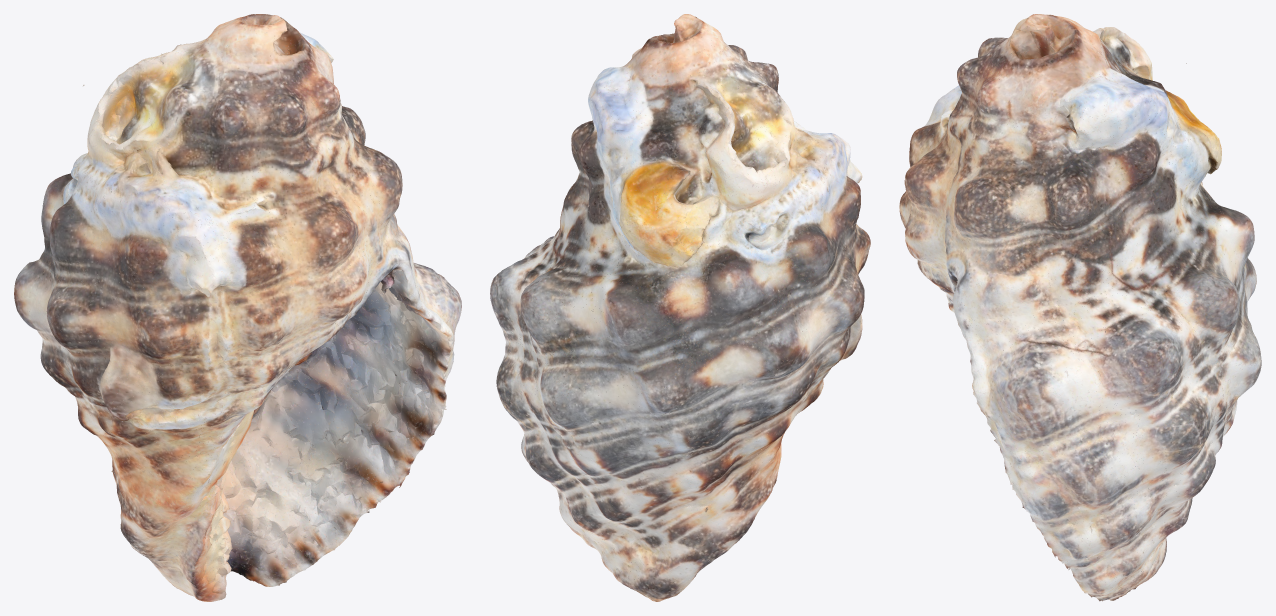
File: thais_clavigera.glb
The picture shows the model from 3 angles, left to right: view 1: azimuth 30°, elevation 25°; view 2: azimuth 150°, elevation 25°; view 3: azimuth 270°, elevation 25°; orthographic projection. The views are drawn at different scales.
Parts seen in each view (by area): view 1: Q10848-1all_5; view 2: Q10848-1all_5; view 3: Q10848-1all_5.
Boxes of the visible parts, x1,y1,x2,y2 form: Q10848-1all_5: [14, 14, 461, 601]; Q10848-1all_5: [490, 14, 870, 601]; Q10848-1all_5: [899, 14, 1261, 601].
Bounding box in the file's own units: 1.33 × 1.98 × 1.15.
1 material, 1 textured.
